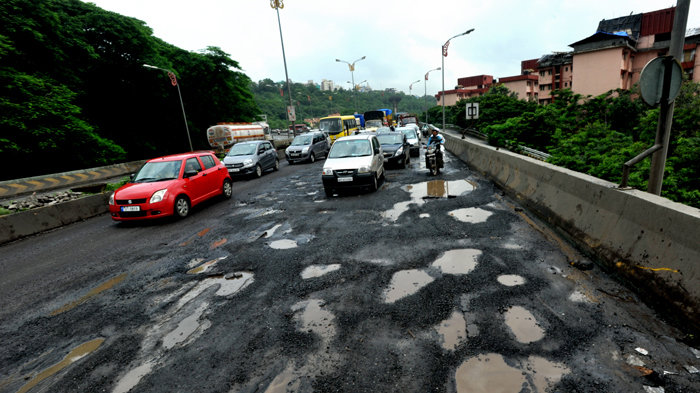pothole: (158, 277, 264, 343), (26, 315, 127, 354), (404, 165, 483, 212), (444, 340, 516, 391), (492, 297, 554, 354), (446, 342, 516, 391), (33, 268, 142, 298), (427, 230, 487, 284), (441, 195, 508, 236), (302, 251, 356, 285), (249, 226, 301, 254), (490, 264, 527, 292)
